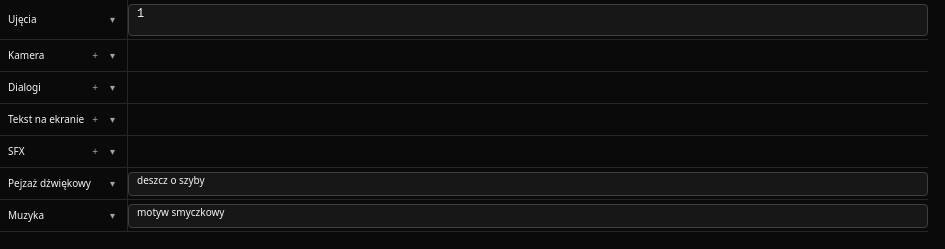
Test: TrackStack › pejzaż i muzyka zwijają się niezależnie
The image size is (945, 249).
Step 1. Click the button named "zwiń ścieżkę pejzaż dźwiękowy" → (112, 183), box [110, 176, 115, 190]
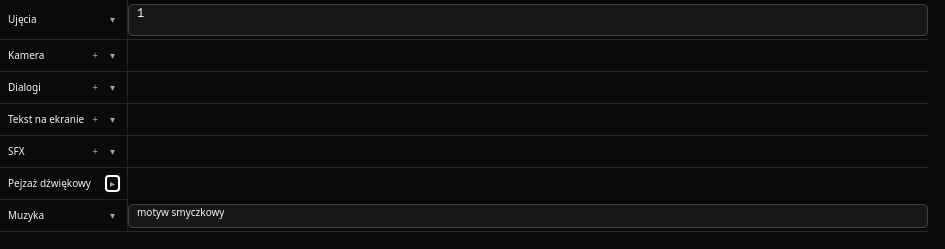
Expected: the button "motyw smyczkowy" is shown, [128, 204, 928, 228]
Expected: the button "deszcz o szyby" is gone
